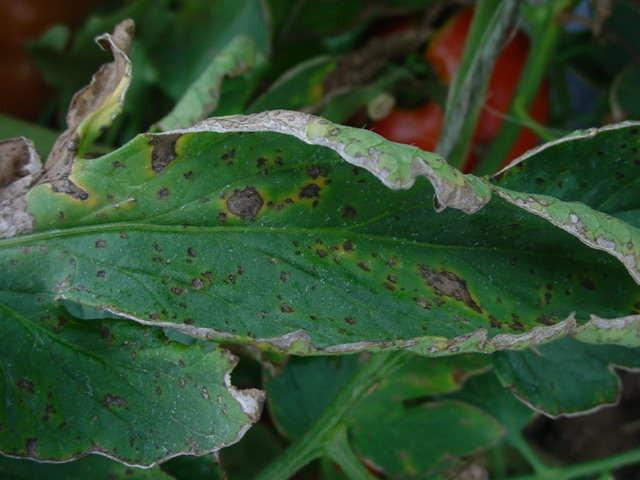Tomato Septoria leaf spot: (5, 92, 632, 469)
